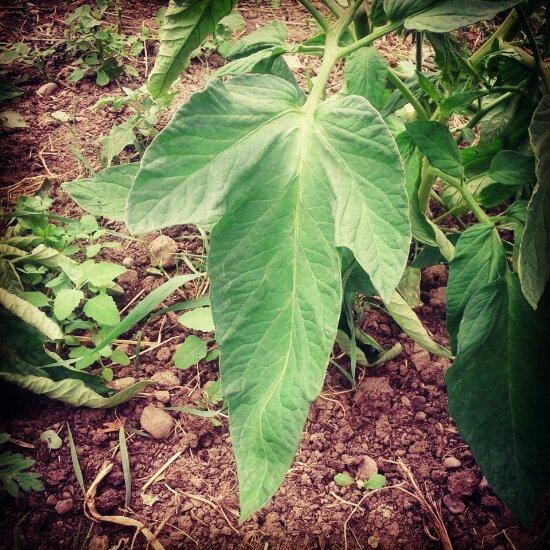Healthy: (133, 66, 413, 527), (446, 276, 550, 550), (446, 223, 506, 359), (403, 117, 464, 178)
